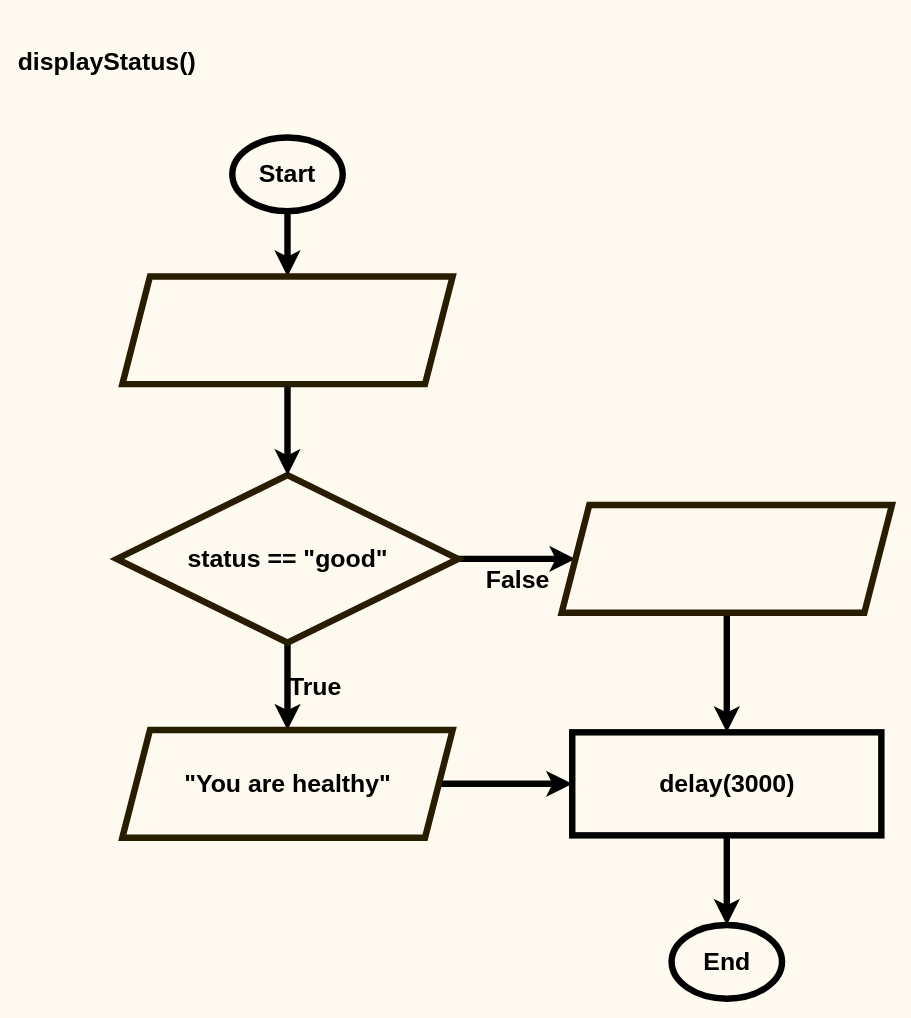
Image size: 911x1018. Some labels were removed from this diagram. The centre of each missing label's shape, as x and y in pixels:
"Status: " + status: (287,330)
"You are not healthy": (726,558)
